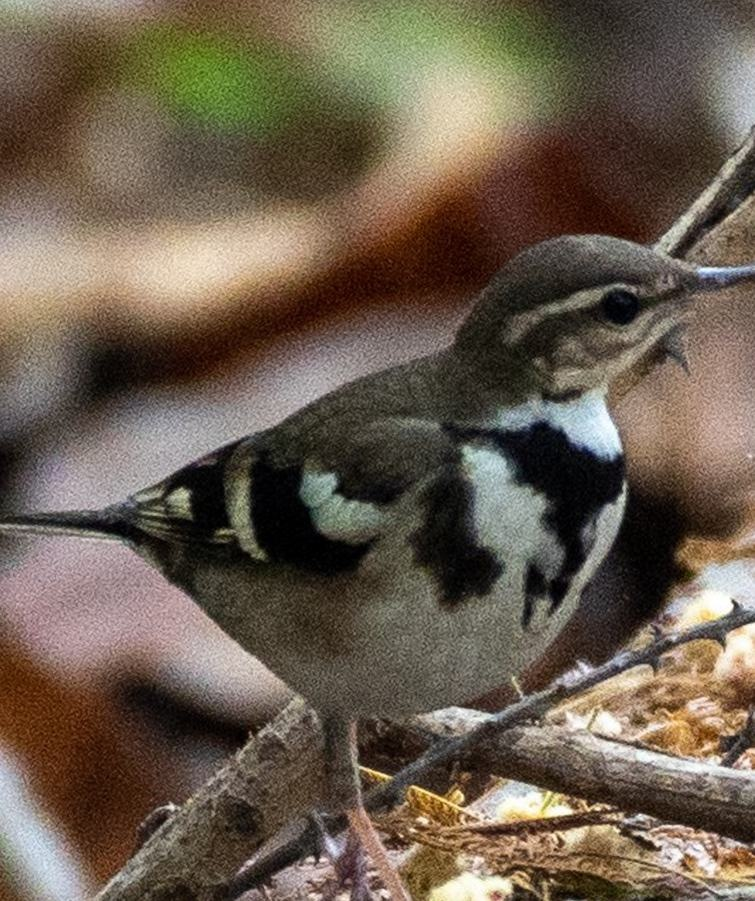wagtail: (127, 237, 740, 731)
